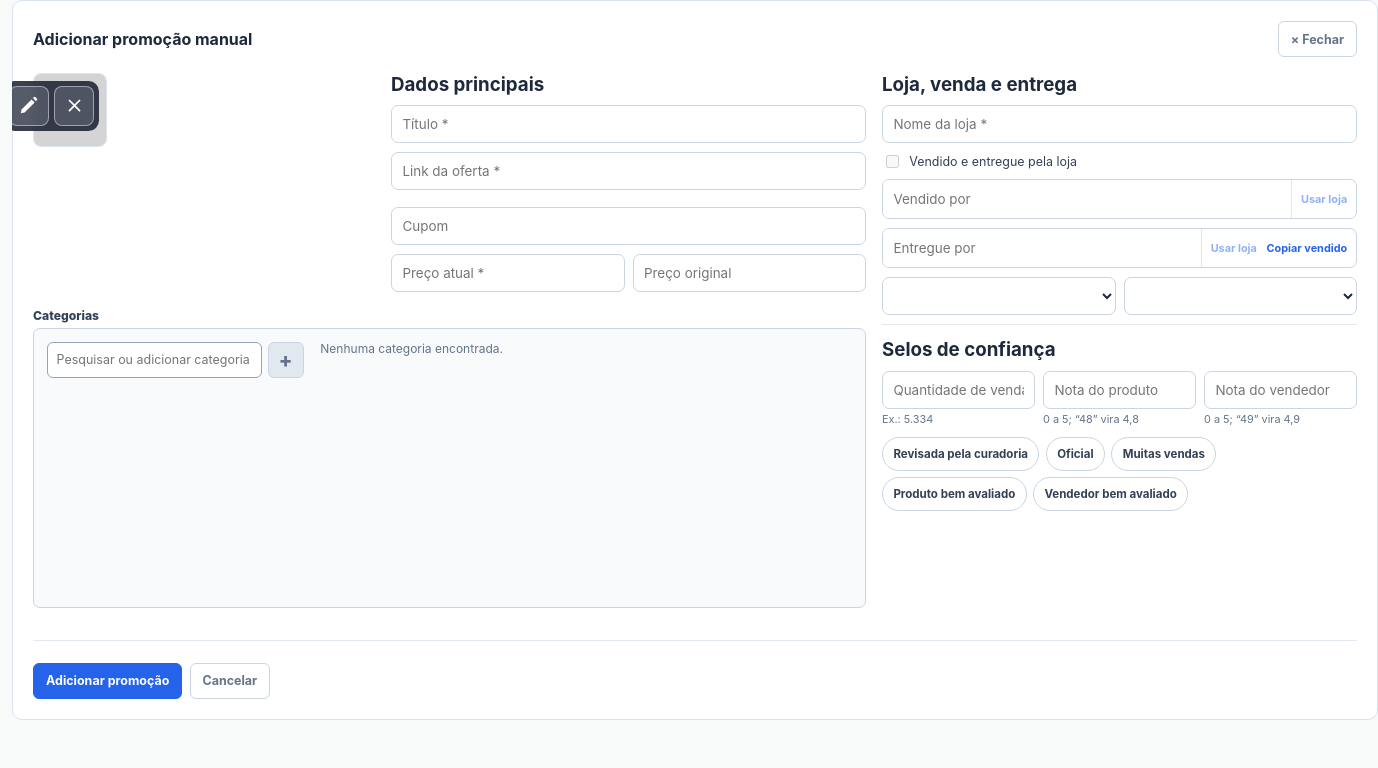
it: ModerationCreatePromotionComponent › removes the selected image from the overlay action and restores the file selector
This screenshot has width=1378, height=768.
Click the button named "Remover imagem".
click(74, 106)  # box [54,86,94,126]
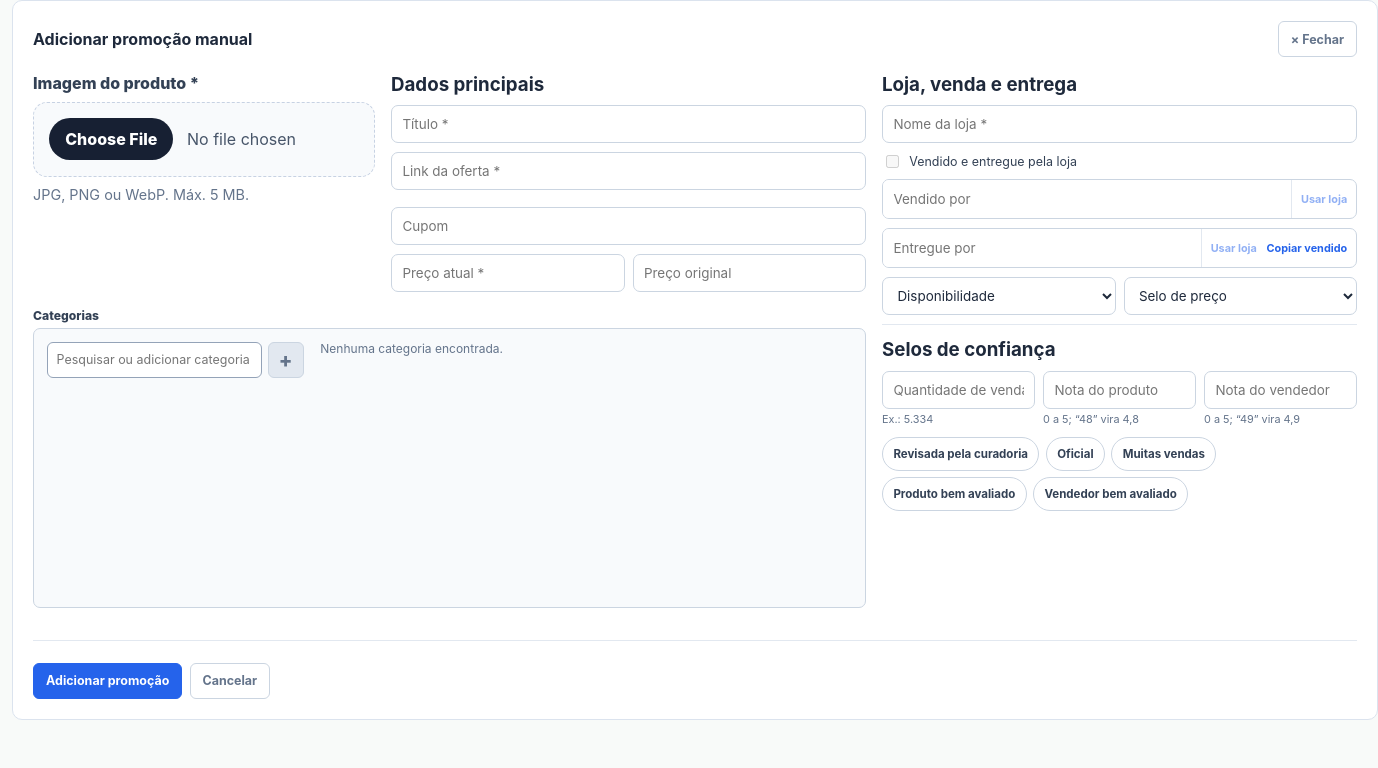
Expected: the element showing "Imagem do produto * JPG, PNG ou WebP. Máx. 5 MB." is shown, [33,73,375,205]
